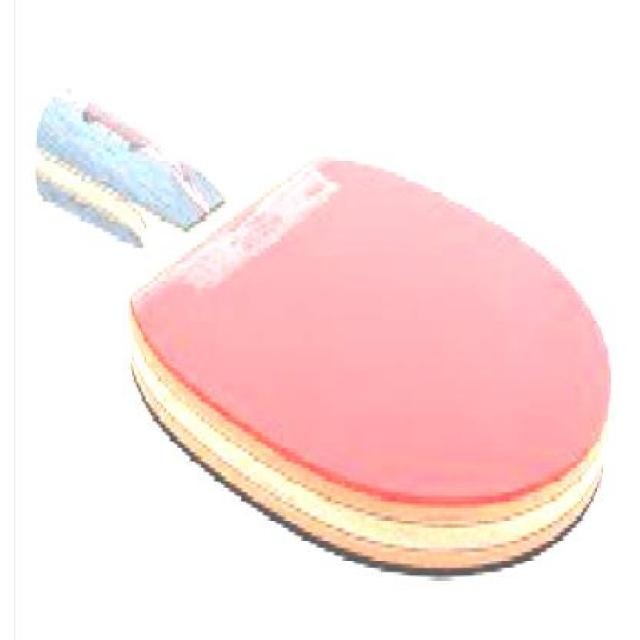table_tennis_racket: (121, 145, 616, 582)
